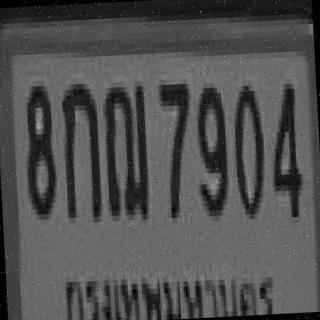A01: (59, 78, 100, 218)
A12: (101, 75, 150, 216)
N00: (231, 80, 265, 215)
N04: (266, 76, 301, 216)
N07: (157, 76, 194, 216)
N08: (22, 80, 56, 215)
N09: (193, 77, 227, 211)
